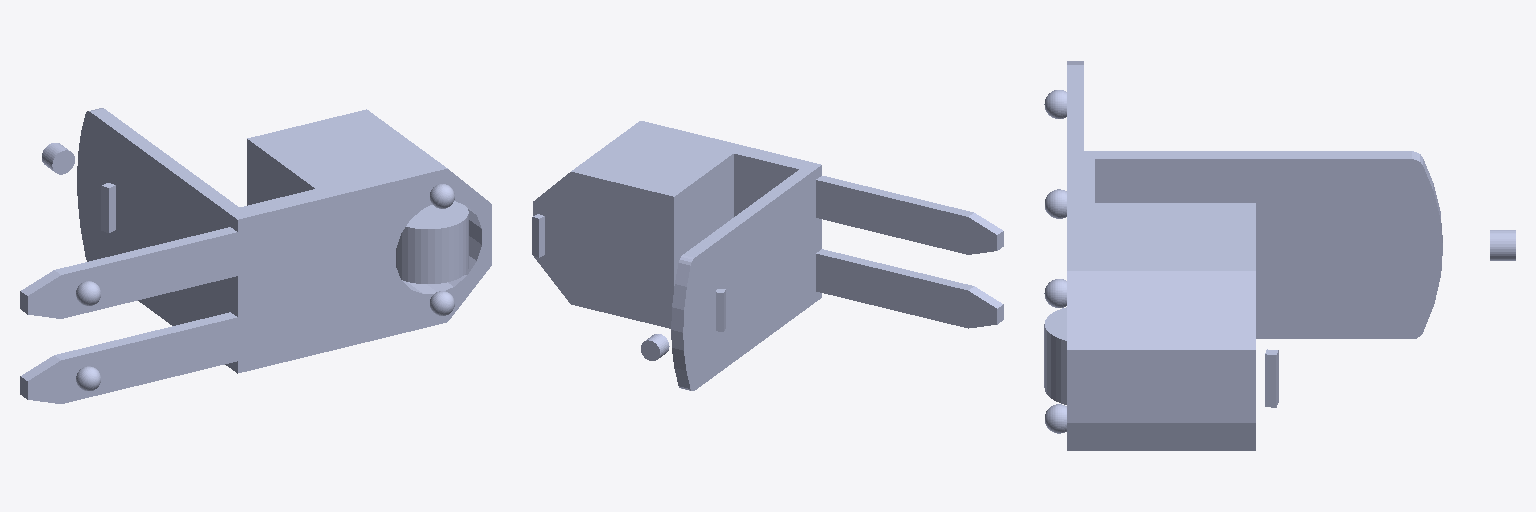
The robot description file, URDF, robot "Pallet_Jack_description":
<?xml version="1.0" encoding="utf-8"?>
<!-- This URDF was automatically created by SolidWorks to URDF Exporter! Originally created by [author] ([email redacted]) 
     Commit Version: 1.6.0-4-g7f85cfe  Build Version: 1.6.7995.38578
     For more information, please see http://wiki.ros.org/sw_urdf_exporter -->
<robot
  name="Pallet_Jack_description">
  <link
    name="base_link">
    <inertial>
      <origin
        xyz="-0.22934 -0.36819 6.0067E-18"
        rpy="0 0 0" />
      <mass
        value="651.53" />
      <inertia
        ixx="111.97"
        ixy="-4.5499"
        ixz="3.5548E-15"
        iyy="204.97"
        iyz="-1.4026E-14"
        izz="236.65" />
    </inertial>
    <visual>
      <origin
        xyz="0 0 0"
        rpy="0 0 0" />
      <geometry>
        <mesh
          filename="../meshes/base_link.STL" />
      </geometry>
      <material
        name="">
        <color
          rgba="0.79216 0.81961 0.93333 1" />
      </material>
    </visual>
    <collision>
      <origin
        xyz="0 0 0"
        rpy="0 0 0" />
      <geometry>
        <mesh
          filename="../meshes/base_link.STL" />
      </geometry>
    </collision>
  </link>
  <link
    name="Steering">
    <inertial>
      <origin
        xyz="3.6739E-17 0 0.5125"
        rpy="0 0 0" />
      <mass
        value="44.179" />
      <inertia
        ixx="1.6866"
        ixy="2.3207E-34"
        ixz="-7.7922E-33"
        iyy="1.6866"
        iyz="-2.5358E-33"
        izz="0.49701" />
    </inertial>
    <visual>
      <origin
        xyz="0 0 0"
        rpy="0 0 0" />
      <geometry>
        <mesh
          filename="../meshes/Steering.STL" />
      </geometry>
      <material
        name="">
        <color
          rgba="0.79216 0.81961 0.93333 1" />
      </material>
    </visual>
    <collision>
      <origin
        xyz="0 0 0"
        rpy="0 0 0" />
      <geometry>
        <mesh
          filename="../meshes/Steering.STL" />
      </geometry>
    </collision>
  </link>
  <joint
    name="Steering"
    type="revolute">
    <origin
      xyz="0.2925 0 0"
      rpy="1.5708 1.5708 0" />
    <parent
      link="base_link" />
    <child
      link="Steering" />
    <axis
      xyz="0 0 1" />
    <limit
      lower="0"
      upper="0"
      effort="0"
      velocity="0" />
  </joint>
  <link
    name="Wheel">
    <inertial>
      <origin
        xyz="0 1.3878E-17 -1.1504E-17"
        rpy="0 0 0" />
      <mass
        value="37.699" />
      <inertia
        ixx="0.65973"
        ixy="0"
        ixz="1.7065E-33"
        iyy="0.65973"
        iyz="-2.1856E-33"
        izz="0.75398" />
    </inertial>
    <visual>
      <origin
        xyz="0 0 0"
        rpy="0 0 0" />
      <geometry>
        <mesh
          filename="../meshes/Wheel.STL" />
      </geometry>
      <material
        name="">
        <color
          rgba="0.79216 0.81961 0.93333 1" />
      </material>
    </visual>
    <collision>
      <origin
        xyz="0 0 0"
        rpy="0 0 0" />
      <geometry>
        <mesh
          filename="../meshes/Wheel.STL" />
      </geometry>
    </collision>
  </link>
  <joint
    name="Wheel"
    type="revolute">
    <origin
      xyz="0 0 0.695"
      rpy="1.5708 0 1.5708" />
    <parent
      link="Steering" />
    <child
      link="Wheel" />
    <axis
      xyz="0 0 -1" />
    <limit
      lower="0"
      upper="0"
      effort="0"
      velocity="0" />
  </joint>
  <link
    name="Lidar">
    <inertial>
      <origin
        xyz="1.0429E-17 0.013281 -2.8561E-18"
        rpy="0 0 0" />
      <mass
        value="1.406" />
      <inertia
        ixx="0.0028094"
        ixy="3.5656E-20"
        ixz="-4.2613E-35"
        iyy="0.0029459"
        iyz="-1.9299E-19"
        izz="0.0028094" />
    </inertial>
    <visual>
      <origin
        xyz="0 0 0"
        rpy="0 0 0" />
      <geometry>
        <mesh
          filename="../meshes/Lidar.STL" />
      </geometry>
      <material
        name="">
        <color
          rgba="0.79216 0.81961 0.93333 1" />
      </material>
    </visual>
    <collision>
      <origin
        xyz="0 0 0"
        rpy="0 0 0" />
      <geometry>
        <mesh
          filename="../meshes/Lidar.STL" />
      </geometry>
    </collision>
  </link>
  <joint
    name="Lidar"
    type="fixed">
    <origin
      xyz="-0.8175 1.03 0"
      rpy="0 0 0" />
    <parent
      link="base_link" />
    <child
      link="Lidar" />
    <axis
      xyz="0 0 0" />
  </joint>
  <link
    name="Zed_Camera_1">
    <inertial>
      <origin
        xyz="0.025 -2.2204E-16 2.7546E-18"
        rpy="0 0 0" />
      <mass
        value="0.615" />
      <inertia
        ixx="0.0032296"
        ixy="4.3368E-18"
        ixz="-4.8692E-19"
        iyy="0.0032296"
        iyz="1.2057E-18"
        izz="0.00025625" />
    </inertial>
    <visual>
      <origin
        xyz="0 0 0"
        rpy="0 0 0" />
      <geometry>
        <mesh
          filename="../meshes/Zed_Camera_1.STL" />
      </geometry>
      <material
        name="">
        <color
          rgba="0.79216 0.81961 0.93333 1" />
      </material>
    </visual>
    <collision>
      <origin
        xyz="0 0 0"
        rpy="0 0 0" />
      <geometry>
        <mesh
          filename="../meshes/Zed_Camera_1.STL" />
      </geometry>
    </collision>
  </link>
  <joint
    name="Zed_Camera_1"
    type="fixed">
    <origin
      xyz="-0.8675 0.42825 0"
      rpy="3.1416 0 -2.7925" />
    <parent
      link="base_link" />
    <child
      link="Zed_Camera_1" />
    <axis
      xyz="0 0 0" />
  </joint>
  <link
    name="Zed_Camera_2">
    <inertial>
      <origin
        xyz="0.025 -2.2204E-16 -2.6995E-17"
        rpy="0 0 0" />
      <mass
        value="0.615" />
      <inertia
        ixx="0.0032296"
        ixy="-4.4452E-18"
        ixz="-1.0147E-19"
        iyy="0.0032296"
        iyz="-8.838E-20"
        izz="0.00025625" />
    </inertial>
    <visual>
      <origin
        xyz="0 0 0"
        rpy="0 0 0" />
      <geometry>
        <mesh
          filename="../meshes/Zed_Camera_2.STL" />
      </geometry>
      <material
        name="">
        <color
          rgba="0.79216 0.81961 0.93333 1" />
      </material>
    </visual>
    <collision>
      <origin
        xyz="0 0 0"
        rpy="0 0 0" />
      <geometry>
        <mesh
          filename="../meshes/Zed_Camera_2.STL" />
      </geometry>
    </collision>
  </link>
  <joint
    name="Zed_Camera_2"
    type="fixed">
    <origin
      xyz="0.4925 0.07 0"
      rpy="0 0 -0.17453" />
    <parent
      link="base_link" />
    <child
      link="Zed_Camera_2" />
    <axis
      xyz="0 0 0" />
  </joint>
</robot>

--- Render facts (derived) ---
3 views of the same robot in one strip: view 1: azimuth 30°, elevation 25°; view 2: azimuth 150°, elevation 25°; view 3: azimuth 270°, elevation 25° (orthographic).
Model Pallet_Jack_description with 6 links and 5 joints (2 revolute, 3 fixed), rooted at base_link, posed all joints at 0.
Visible links, largest first — view 1: base_link, Wheel, Lidar, Zed_Camera_1; view 2: base_link, Lidar, Zed_Camera_2; view 3: base_link, Wheel, Lidar, Zed_Camera_2.
Link boxes in pixels (x1,y1,x2,y2): base_link: (20,108,491,403); Wheel: (396,201,468,283); Lidar: (42,143,74,174); Zed_Camera_1: (101,183,115,232); base_link: (533,121,1003,390); Lidar: (641,334,669,360); Zed_Camera_2: (532,214,544,257); base_link: (1044,61,1442,450); Wheel: (1044,307,1066,404); Lidar: (1490,230,1515,260); Zed_Camera_2: (1265,349,1278,407).
Size in the robot's own frame: 2.65 by 1.99 by 0.84 metres.
6 mesh visuals loaded from 6 distinct referenced files (6 binary STL).